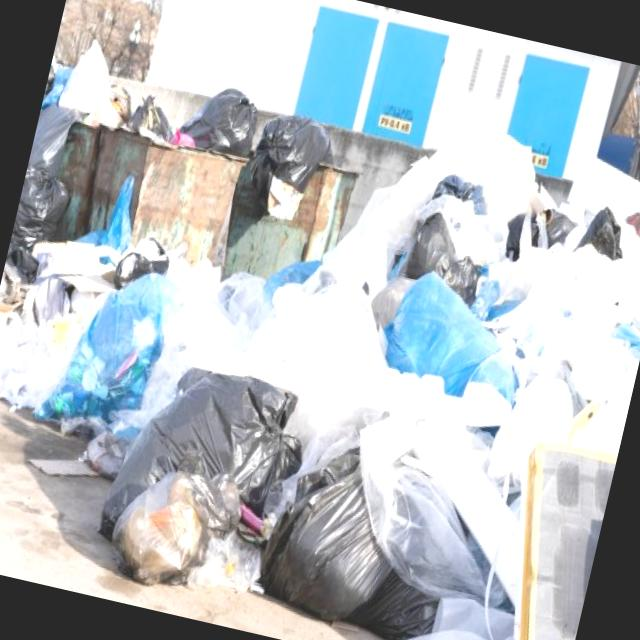garbage: (153, 83, 640, 640)
